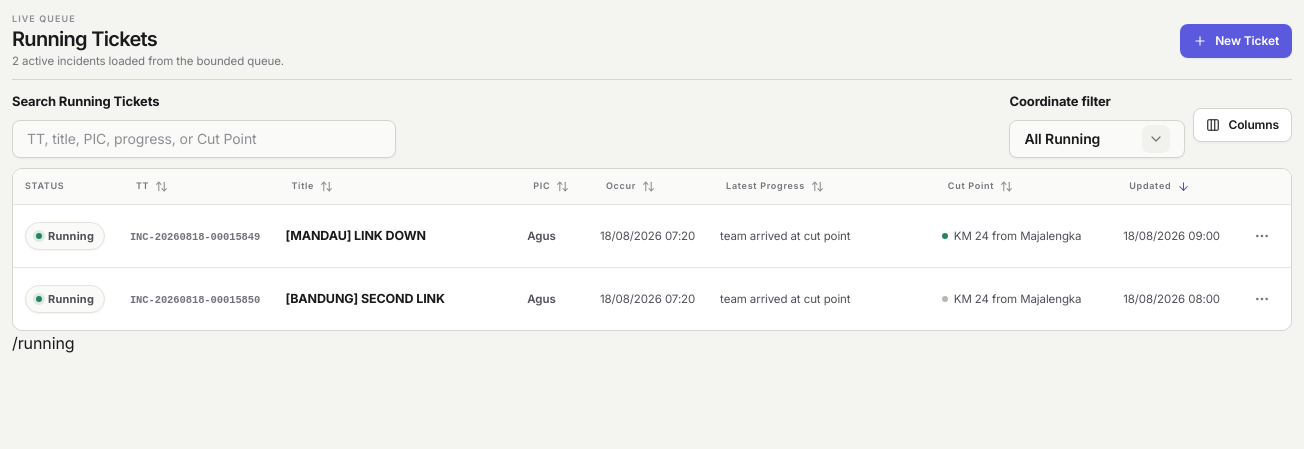
it: RunningTicketsPage operational workspace › keeps review read-only and routes Add Progress through the explicit editor
Press the mouse on the button named "Actions for INC-20260818-00015849" at x=1262, y=236, box x1=1245 y1=219 x2=1279 y2=253
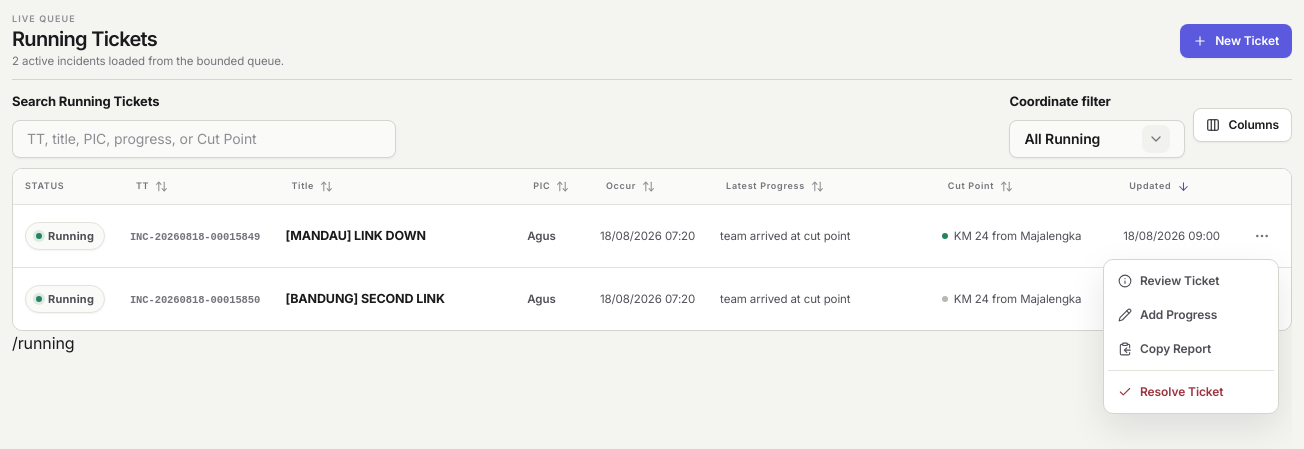
Click the menu item "Add Progress".
click(1168, 314)  # box x1=1118 y1=307 x2=1217 y2=322
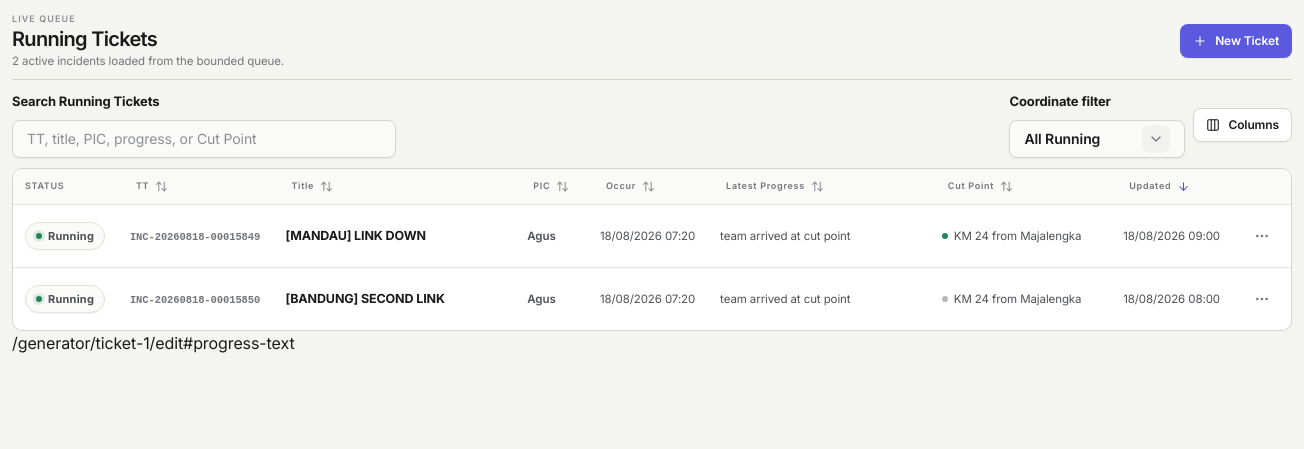
expect the text with test id "location-probe" reads "/generator/ticket-1/edit#progress-text": met, box x1=12 y1=333 x2=294 y2=353
